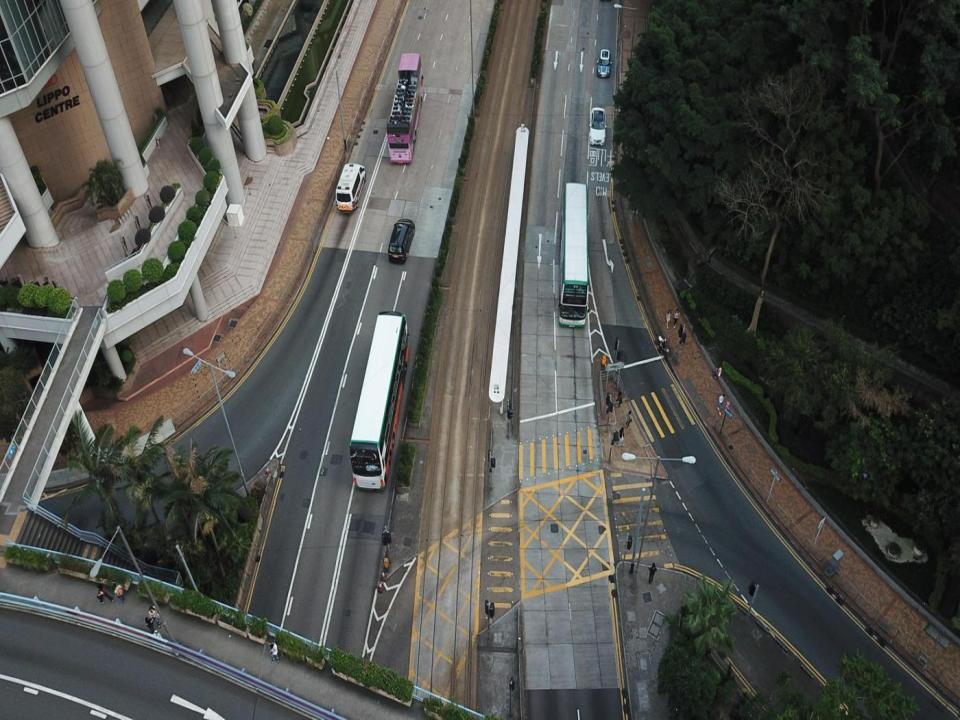bus: (349, 311, 409, 488), (558, 184, 588, 326), (387, 52, 423, 163)
car: (388, 218, 414, 264), (590, 108, 607, 146), (598, 48, 611, 76)
van: (335, 163, 365, 213)
